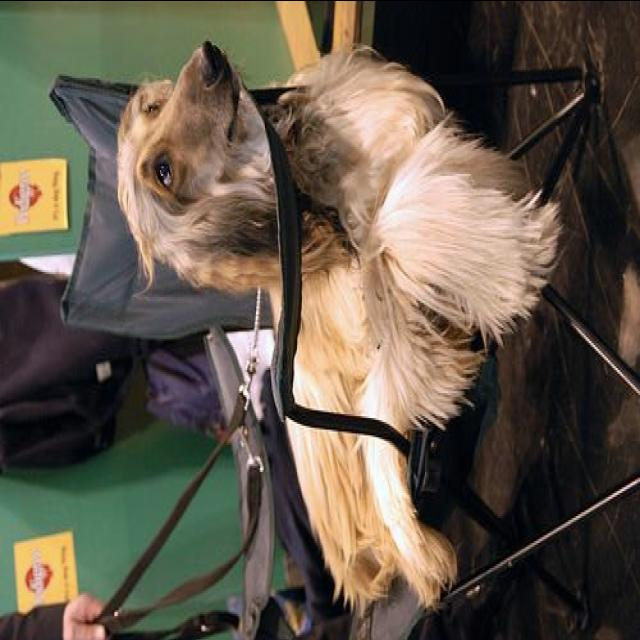afghan_hound: (112, 41, 566, 612)
